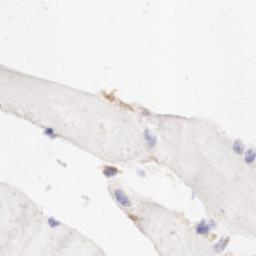nucleus: (114, 188, 132, 207), (143, 128, 158, 147), (232, 136, 243, 156), (196, 221, 210, 235), (244, 146, 256, 162), (48, 216, 61, 229), (215, 238, 226, 252), (43, 127, 55, 138), (104, 169, 117, 178), (136, 169, 145, 175)
positive_cell: (103, 164, 121, 180)
